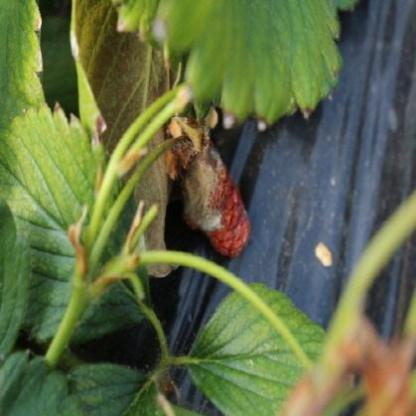Strawberry_Gray_Mold: (165, 107, 252, 258)
